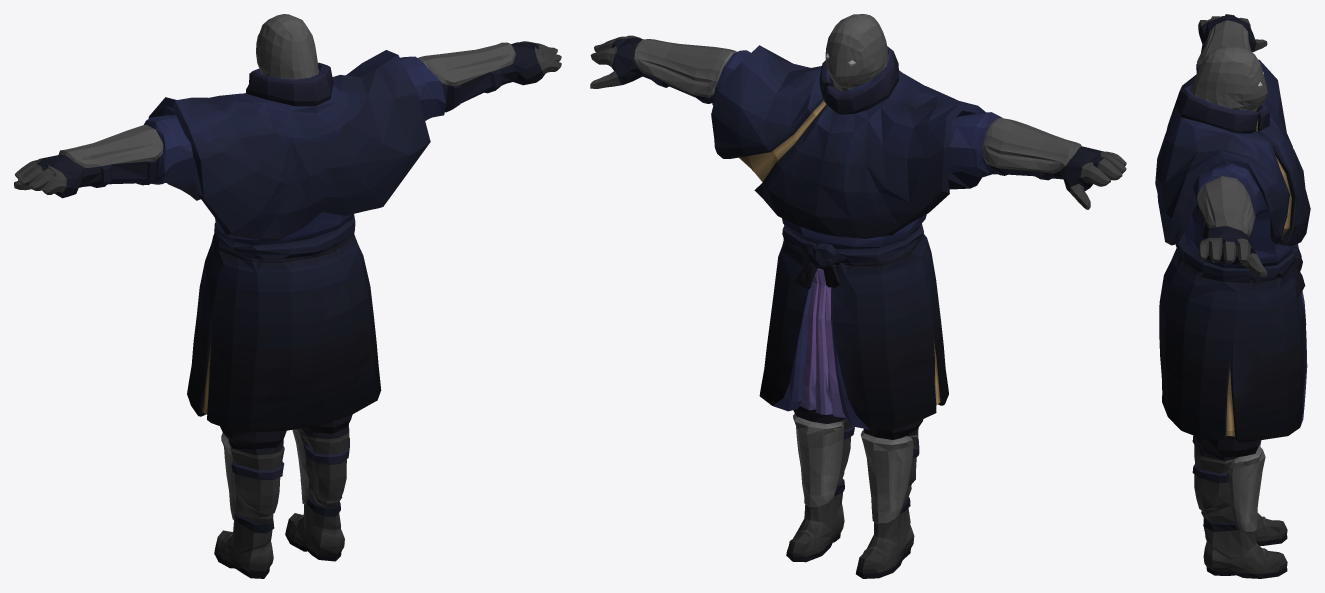
The model's file is NPC_AP29Layered.glb.
3 views of the same model, side by side, from view 1: azimuth 30°, elevation 25°; view 2: azimuth 150°, elevation 25°; view 3: azimuth 270°, elevation 25° (orthographic). The views are drawn at different scales.
Parts seen in each view (by area): view 1: NPC_AP29Layered; view 2: NPC_AP29Layered; view 3: NPC_AP29Layered.
Boxes of the visible parts, x1,y1,x2,y2 form: NPC_AP29Layered: (14,14,561,578); NPC_AP29Layered: (590,14,1126,578); NPC_AP29Layered: (1155,14,1310,578).
Bounding box in the file's own units: 14.13 × 13.61 × 3.79.
Materials: 1 (1 with a texture image).
